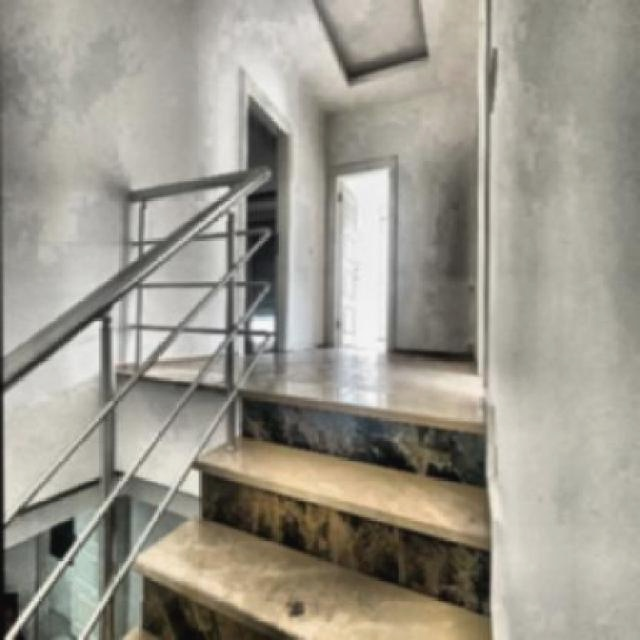stair: (123, 417, 489, 640)
